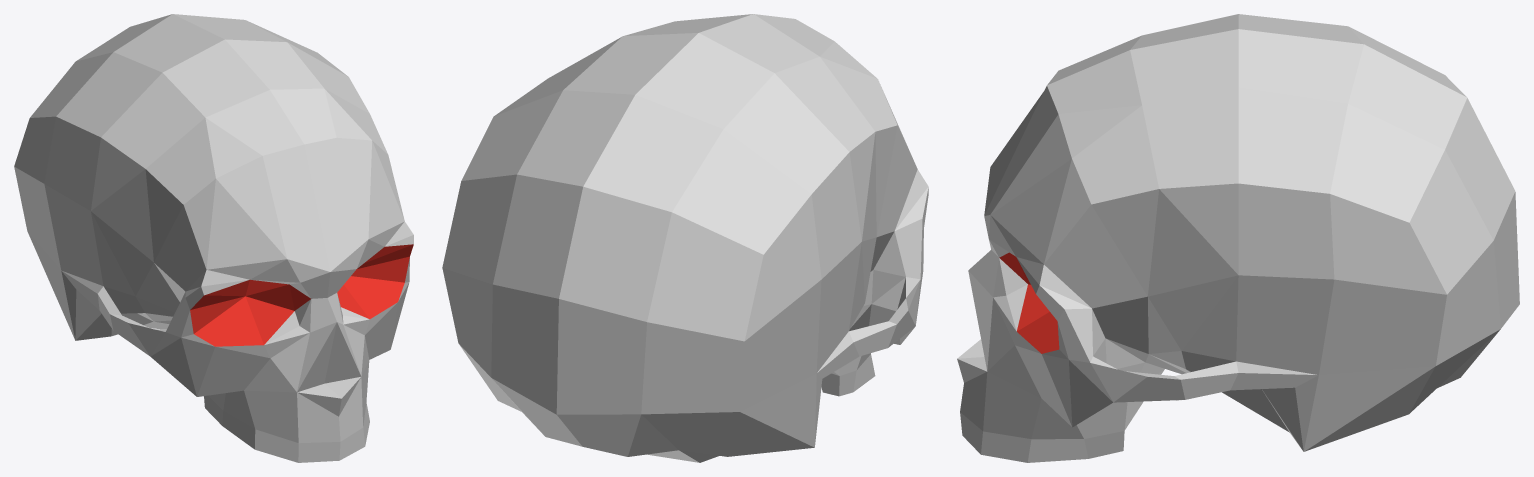
The model's file is Skull.fbx.
3 renders of one model, left to right at view 1: azimuth 30°, elevation 25°; view 2: azimuth 150°, elevation 25°; view 3: azimuth 270°, elevation 25°, orthographic. The views are drawn at different scales.
Parts seen in each view (by area): view 1: Cube.001; view 2: Cube.001; view 3: Cube.001.
Boxes of the visible parts, x1,y1,x2,y2 form: Cube.001: (14, 14, 413, 462); Cube.001: (442, 14, 928, 462); Cube.001: (957, 14, 1519, 462).
Bounding box in the file's own units: 0.6769 × 0.7753 × 0.9729.
